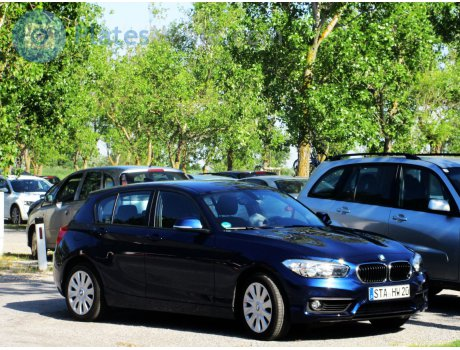License Plates: (364, 283, 411, 297)
